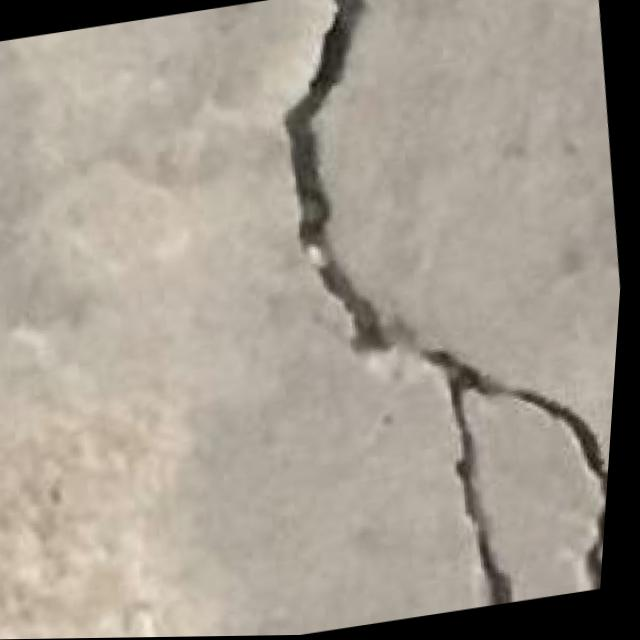Crack: (226, 0, 640, 636)
